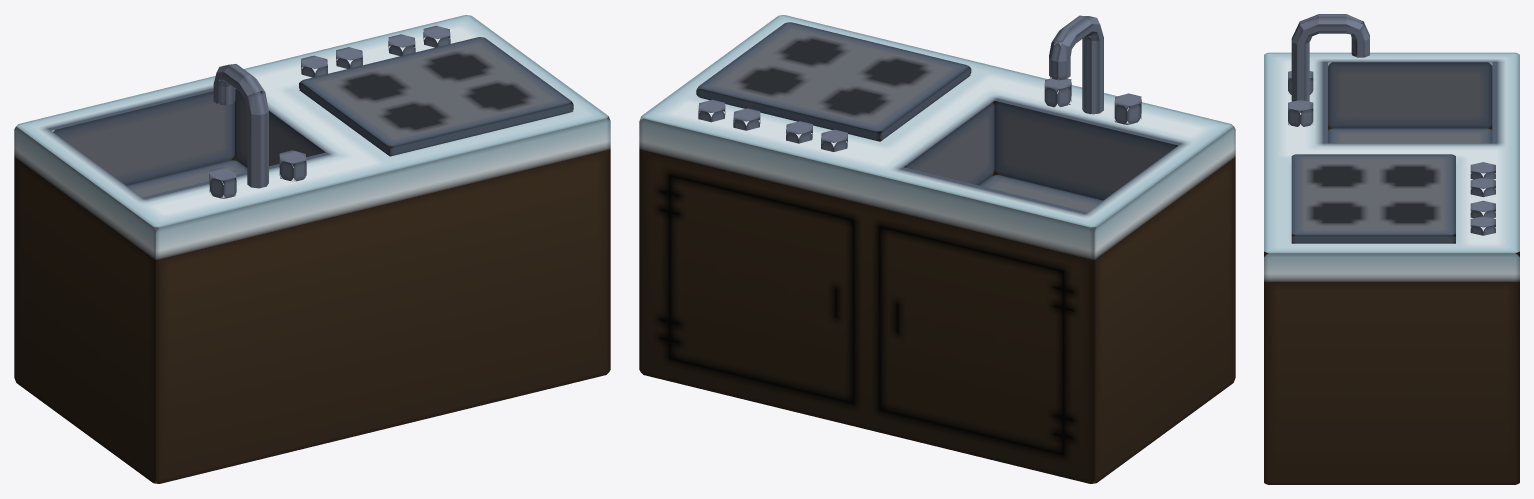
Rendered from Kitchen.obj.
The picture shows the model from 3 angles, left to right: view 1: azimuth 30°, elevation 25°; view 2: azimuth 150°, elevation 25°; view 3: azimuth 270°, elevation 25°; orthographic projection. The views are drawn at different scales.
Parts seen in each view (by area): view 1: cuboid; view 2: cuboid; view 3: cuboid.
Boxes of the visible parts, bbox=[...] form: cuboid: bbox=[14, 15, 610, 483]; cuboid: bbox=[639, 15, 1235, 483]; cuboid: bbox=[1264, 14, 1519, 484].
Size of the model in its own units: 1.62 by 1.22 by 0.875.
Materials: 1 (1 with a texture image).
